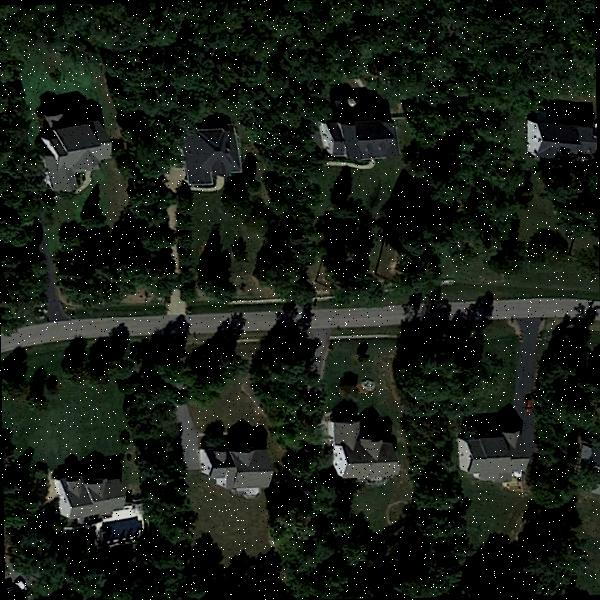Buildings: (32, 118, 112, 188), (196, 439, 272, 498), (324, 419, 398, 474), (454, 435, 538, 480), (327, 115, 402, 161), (60, 470, 124, 523), (188, 130, 238, 187), (531, 124, 590, 160)
